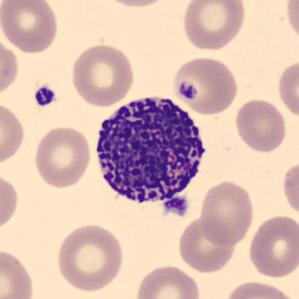Basophil: (89, 87, 214, 226)
Platelets: (32, 83, 58, 109), (165, 195, 190, 218), (177, 81, 198, 100)
RBC: (54, 221, 126, 293), (68, 41, 136, 108), (172, 55, 239, 116), (32, 124, 93, 190), (198, 179, 256, 247), (175, 215, 239, 274), (179, 0, 248, 52), (247, 212, 298, 280), (232, 96, 289, 154), (0, 0, 61, 54), (132, 262, 202, 299), (0, 246, 36, 299), (0, 99, 27, 168), (222, 278, 298, 299), (0, 34, 21, 100), (276, 57, 298, 119), (0, 171, 21, 234), (280, 158, 298, 220), (284, 0, 299, 46), (98, 0, 173, 9)
